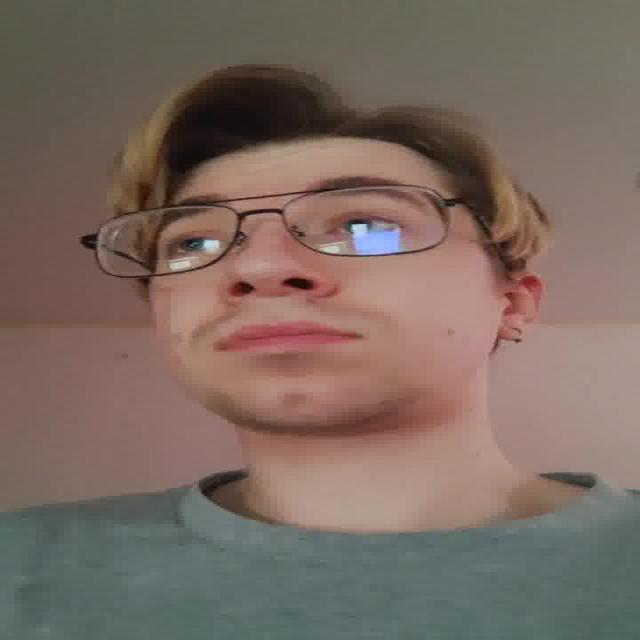earlobe: (495, 271, 547, 342)
